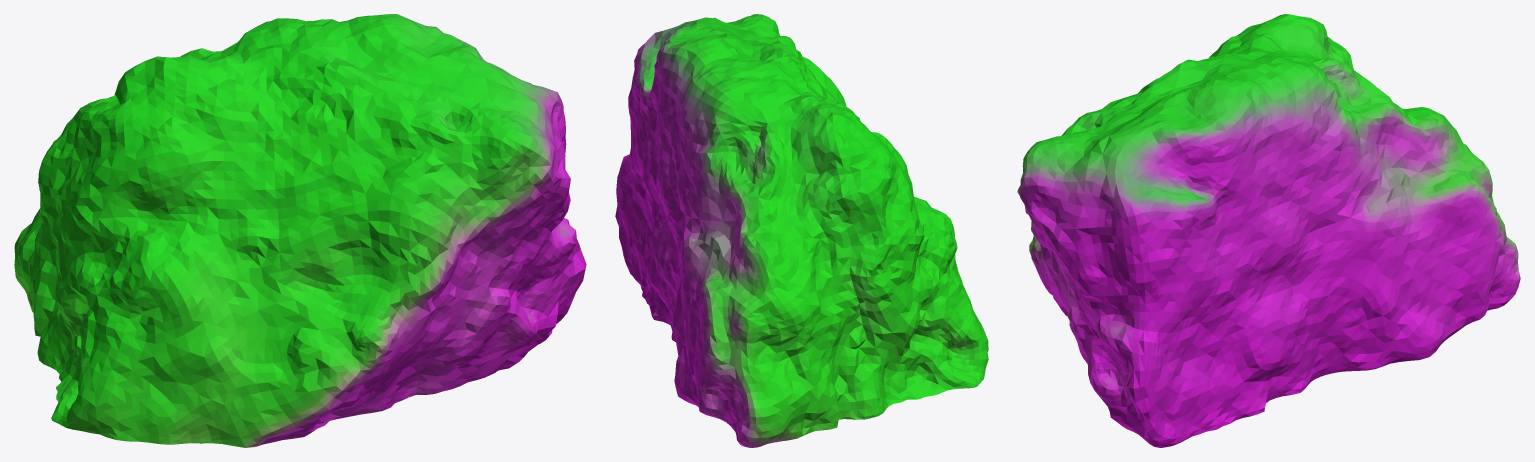
The model's file is gray-big-rock_baked.glb.
3 renders of one model, left to right at view 1: azimuth 30°, elevation 25°; view 2: azimuth 150°, elevation 25°; view 3: azimuth 270°, elevation 25°, orthographic. The views are drawn at different scales.
Parts seen in each view (by area): view 1: world; view 2: world; view 3: world.
Part boxes in pixels (x1,y1,x2,y2): world: [14, 14, 586, 447]; world: [615, 14, 988, 447]; world: [1017, 14, 1520, 447].
Size of the model in its own units: 1.55 by 1 by 1.48.
